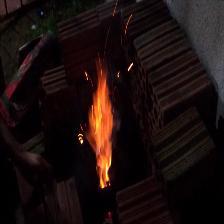fire: (77, 51, 120, 188)
